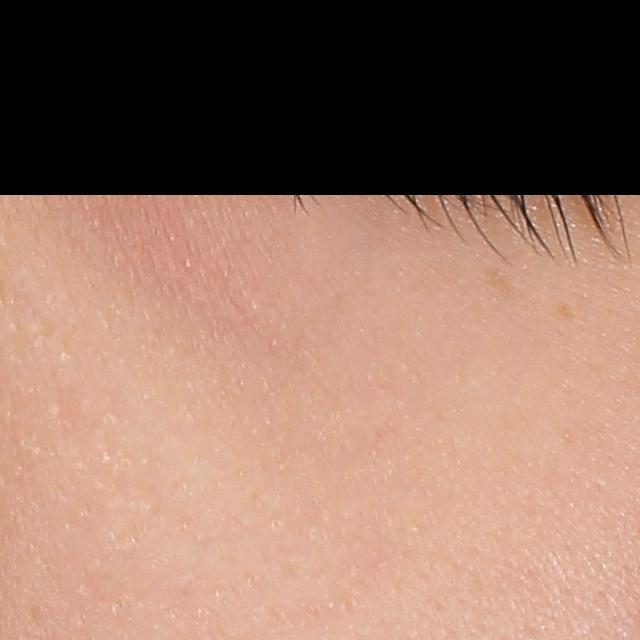melasma: (550, 302, 573, 321)
